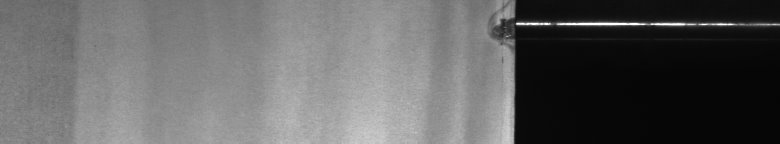hb: (482, 4, 504, 63)
